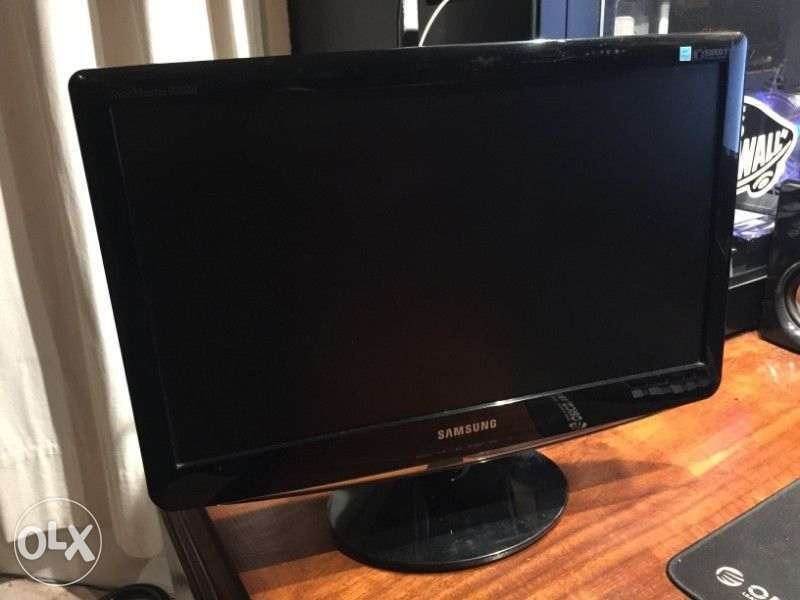samsung-monitor-b2030: (108, 29, 761, 560)
